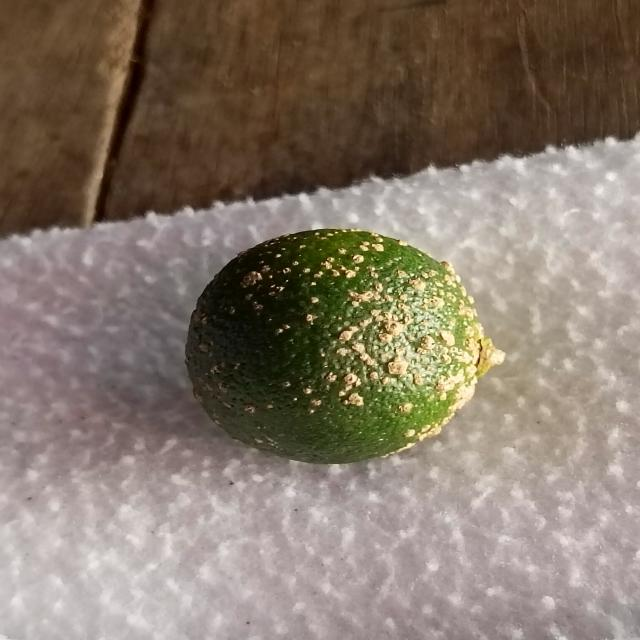scab: (184, 227, 486, 467)
